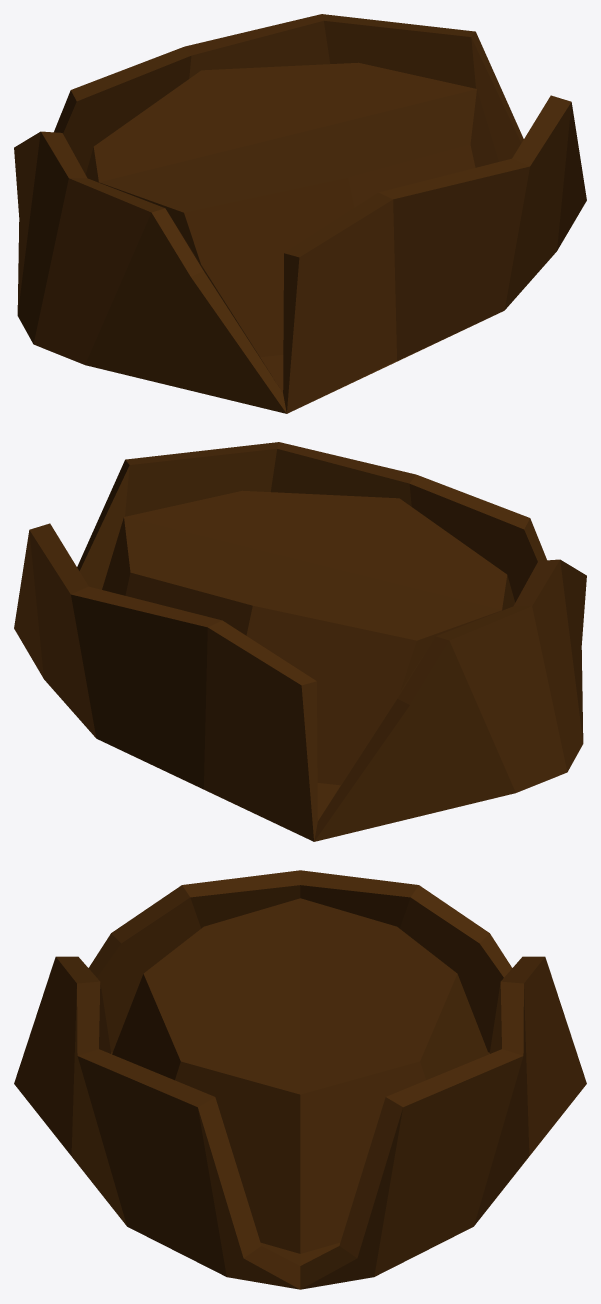
Rendered from Captain_Hat.fbx.
3 renders of one model, top to bottom at view 1: azimuth 30°, elevation 25°; view 2: azimuth 150°, elevation 25°; view 3: azimuth 270°, elevation 25°, orthographic. The views are drawn at different scales.
Parts seen in each view (by area): view 1: Captain_Hat; view 2: Captain_Hat; view 3: Captain_Hat.
Boxes of the visible parts, box(x1,y1,x2,y2) form: Captain_Hat: box(14, 14, 586, 413); Captain_Hat: box(14, 442, 586, 841); Captain_Hat: box(14, 870, 586, 1289).
Bounding box in the file's own units: 169 × 192 × 56.95.
